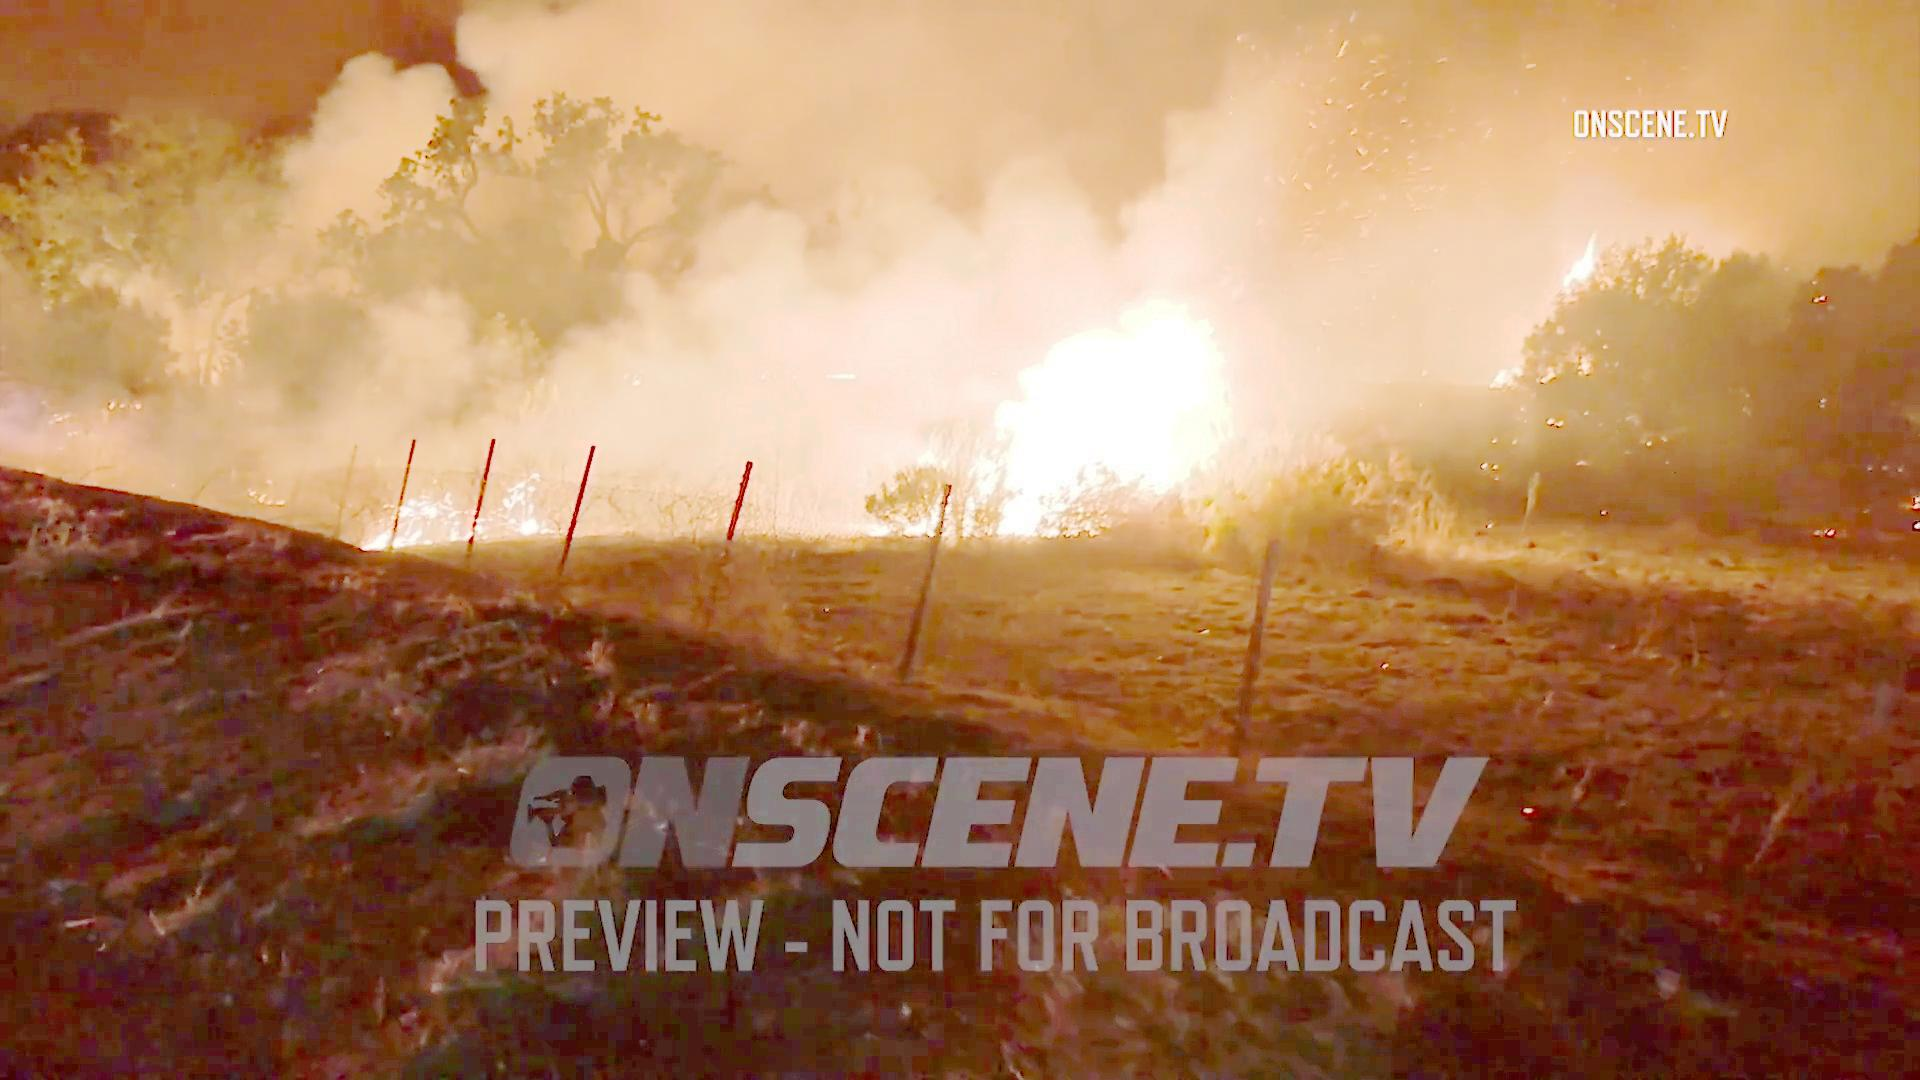fire: (956, 268, 1261, 514)
smoke: (675, 5, 935, 410)
